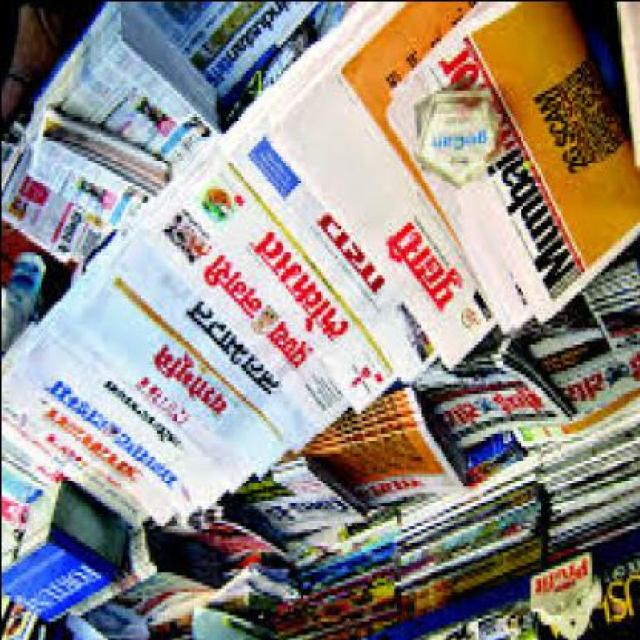PAPER: (225, 3, 497, 372), (220, 3, 440, 389), (388, 3, 638, 332), (173, 142, 401, 422), (2, 3, 226, 271), (71, 244, 292, 482), (143, 184, 346, 438), (113, 222, 316, 456), (8, 317, 228, 514), (40, 304, 252, 498), (390, 75, 532, 340), (498, 257, 638, 457), (2, 380, 178, 531), (279, 393, 467, 512), (138, 3, 334, 103), (401, 488, 548, 620), (29, 106, 171, 234), (426, 346, 576, 456), (76, 532, 222, 636), (274, 528, 406, 638), (538, 418, 638, 550), (232, 462, 368, 538), (412, 92, 502, 192), (536, 563, 638, 639), (196, 488, 290, 564), (2, 432, 60, 512), (420, 606, 538, 639), (65, 594, 152, 638), (617, 3, 638, 177), (465, 429, 526, 485), (190, 606, 278, 639), (2, 498, 26, 610), (2, 600, 43, 638)
